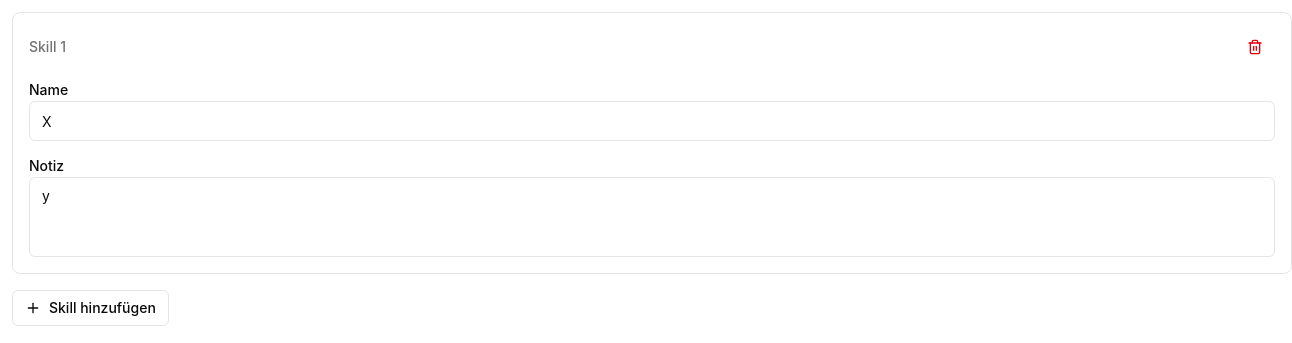
Test: PersonaSkillsEditor › erlaubt das Entfernen eines Skills
Click the button named "Skill 1 entfernen" at (1255, 47), box [1235,29,1275,65]
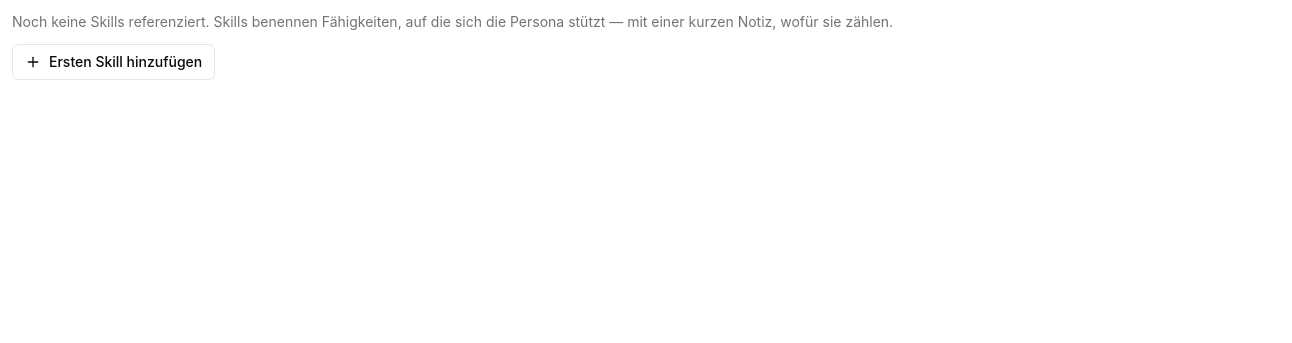
expect the text "Noch keine Skills referenziert" is shown: met, box [12,13,893,30]
